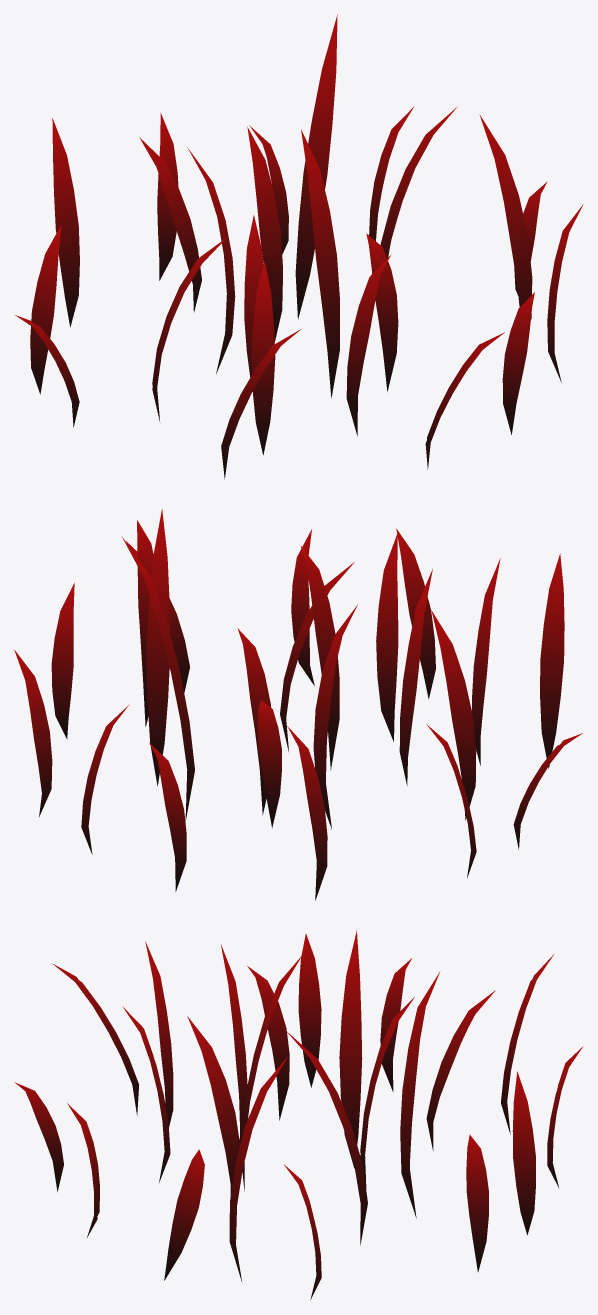
The model's file is Grass.fbx.
3 views of the same model, one above another, from view 1: azimuth 30°, elevation 25°; view 2: azimuth 150°, elevation 25°; view 3: azimuth 270°, elevation 25° (orthographic). The views are drawn at different scales.
Parts seen in each view (by area): view 1: Grass; view 2: Grass; view 3: Grass.
Boxes of the visible parts, left/top/right/bottom form: Grass: left=15, top=14, right=583, bottom=479; Grass: left=14, top=508, right=582, bottom=900; Grass: left=14, top=930, right=583, bottom=1299.
Size of the model in its own units: 3.36 by 1.76 by 3.28.
